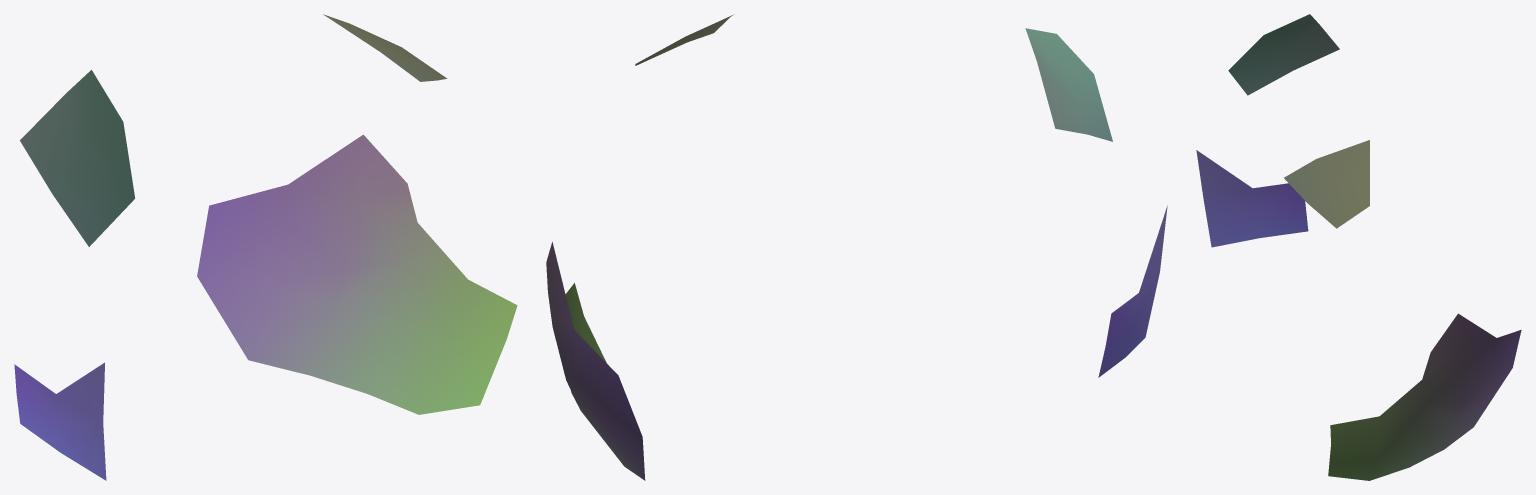
Rendered from space-nebulae-nebula_v10.glb.
The picture shows the model from 3 angles, left to right: view 1: azimuth 30°, elevation 25°; view 2: azimuth 150°, elevation 25°; view 3: azimuth 270°, elevation 25°; orthographic projection. The views are drawn at different scales.
Visible parts, largest first — view 1: Nebula_v10; view 2: Nebula_v10; view 3: Nebula_v10.
Part boxes in pixels (x1,y1,x2,y2): Nebula_v10: (14,14,517,480); Nebula_v10: (546,14,1167,480); Nebula_v10: (1196,14,1521,480).
Bounding box in the file's own units: 0.5 × 0.4259 × 0.3728.
